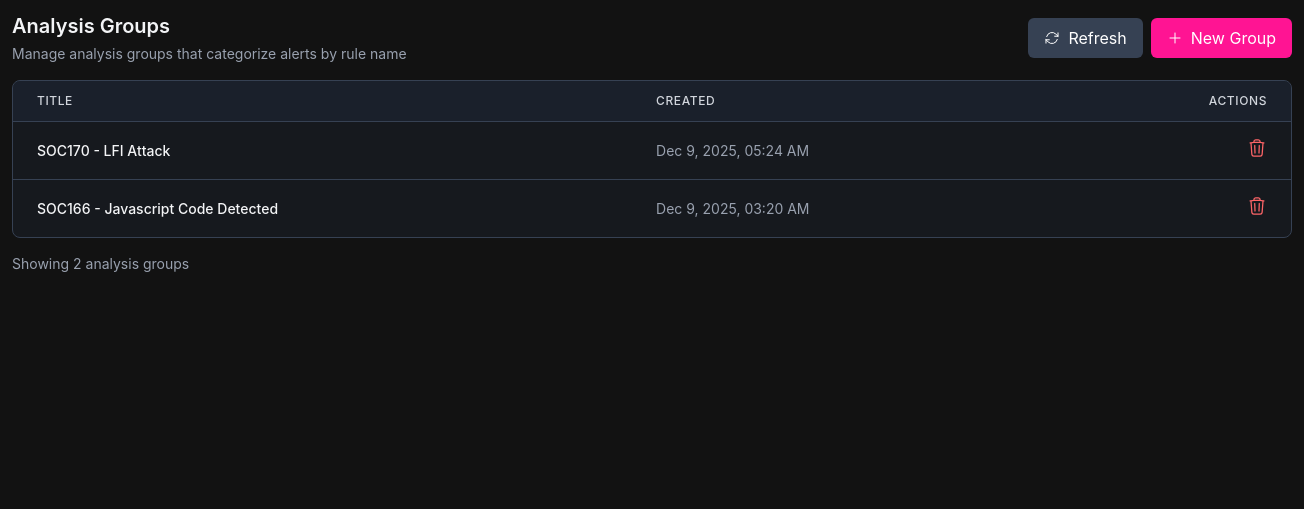
Test case: AnalysisGroups › creates a new analysis group
Expected: the text "SOC170 - LFI Attack" is shown, [37,142,170,158]
Note: Open create form
Click the button "New Group" at (1221, 38), box [1151,18,1292,58]
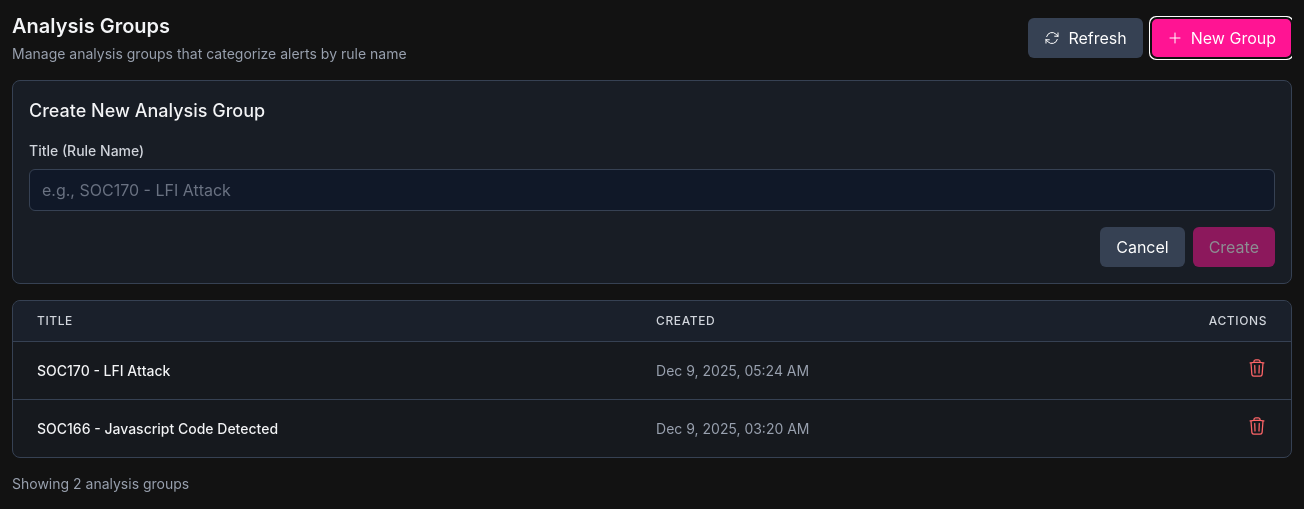
Note: Fill in the form
Type "New Test Group" into the field labelled "Title (Rule Name)" at (652, 190), box [29,169,1275,211]
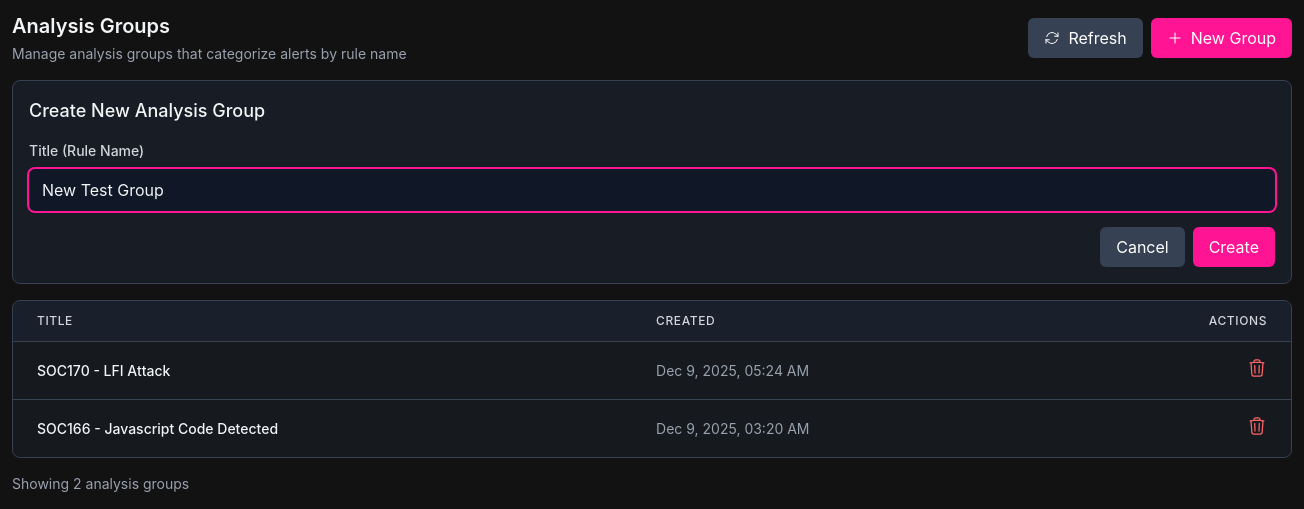
Click the button "Create" at (1234, 247), box [1193,227,1275,267]
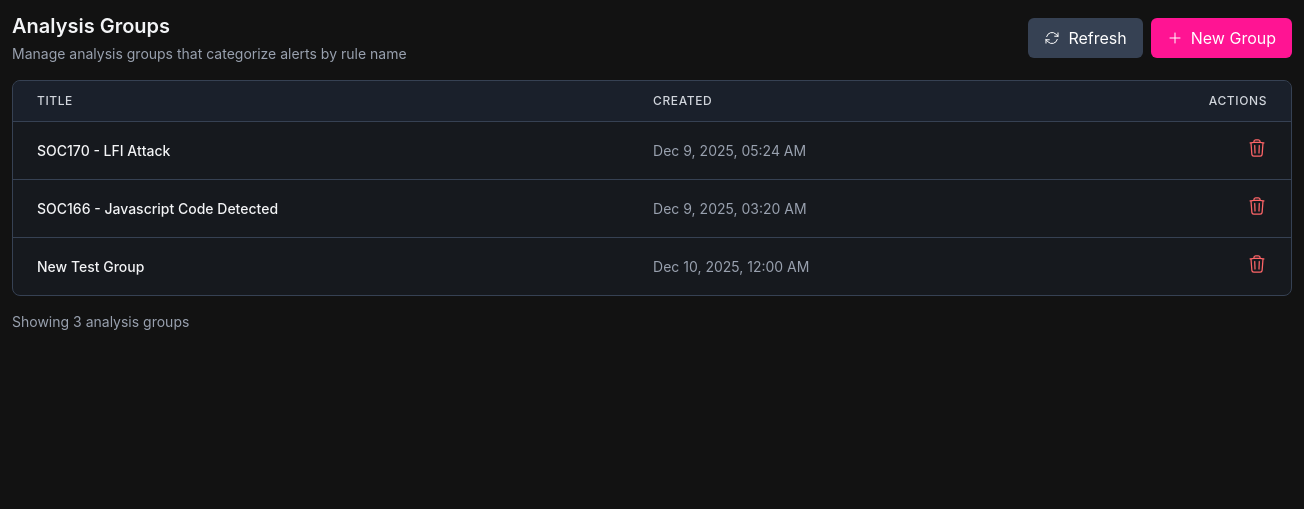
Now the heading "Create New Analysis Group" is gone
